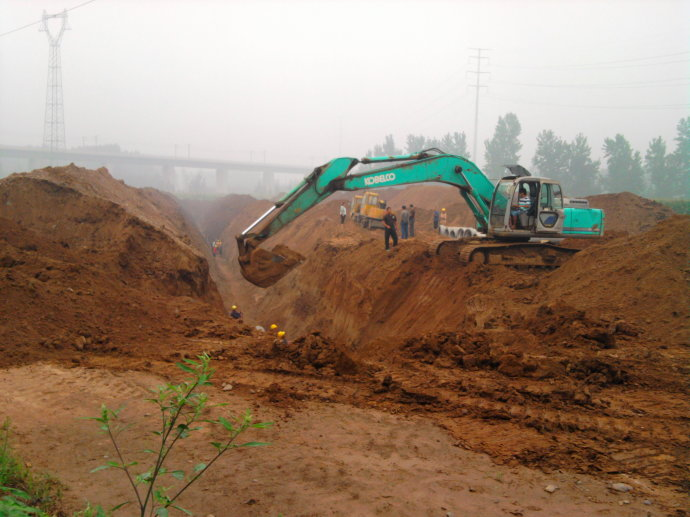excavator: (223, 144, 575, 314)
